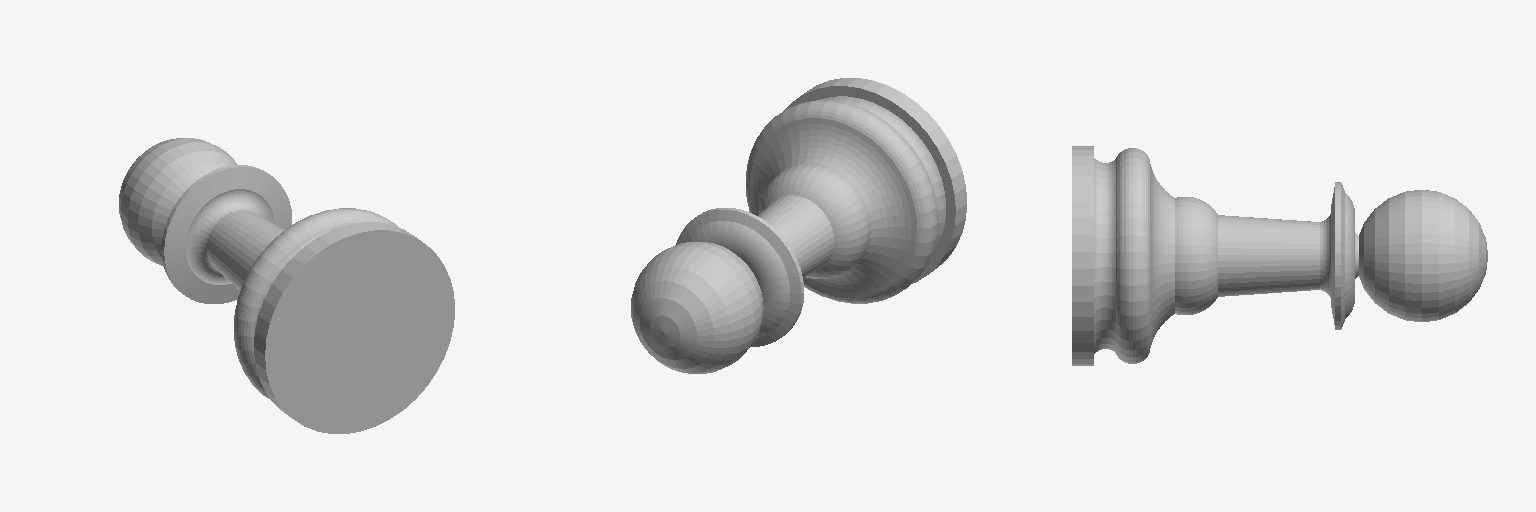
File: peao.obj
3 views of the same model, side by side, from view 1: azimuth 30°, elevation 25°; view 2: azimuth 150°, elevation 25°; view 3: azimuth 270°, elevation 25° (orthographic).
Visible parts, largest first — view 1: Mesh1_Group2_Group_41_1_Group1_Model; view 2: Mesh1_Group2_Group_41_1_Group1_Model; view 3: Mesh1_Group2_Group_41_1_Group1_Model.
Boxes of the visible parts, x1,y1,x2,y2 form: Mesh1_Group2_Group_41_1_Group1_Model: [119, 138, 454, 433]; Mesh1_Group2_Group_41_1_Group1_Model: [631, 78, 966, 373]; Mesh1_Group2_Group_41_1_Group1_Model: [1072, 146, 1487, 365].
Size of the model in its own units: 0.1937 by 0.1937 by 0.3674.